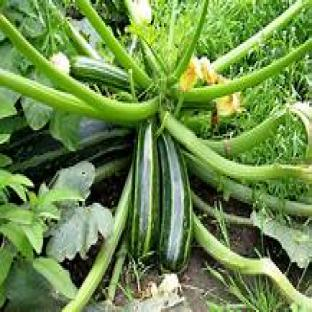Zucchini: (0, 119, 133, 181), (159, 133, 192, 271), (130, 121, 159, 260), (71, 56, 129, 91)
